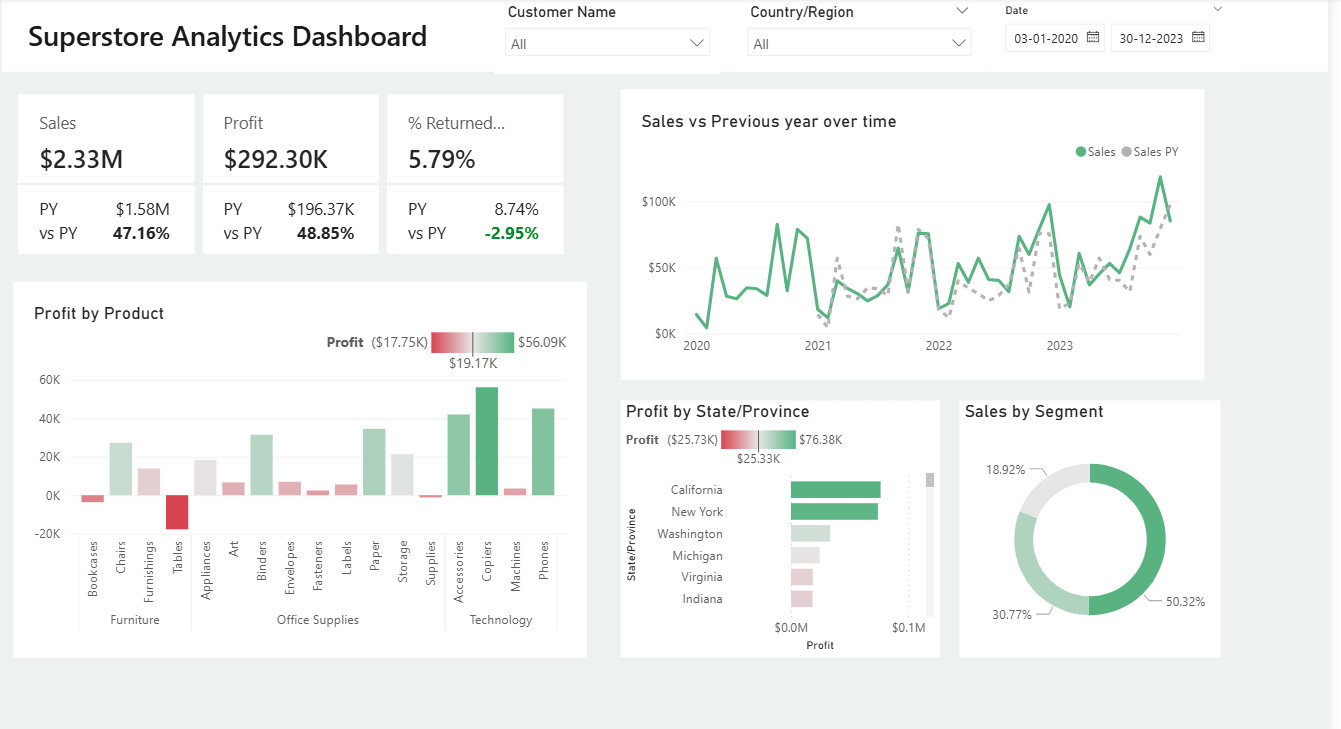

The dashboard page shown, as its layout file describes it:
{"tool":"powerbi","page":{"name":"Page 1","canvas":[1280,720],"ordinal":0},"visuals":[{"type":"cardVisual","fields":{"Data":["Key Measures.Sales","Key Measures.Profit","Key Measures.% Returned Orders"]},"box":[11.1,87.8,537.8,164.4],"z":0},{"type":"shape","box":[0,0,1280,71.2],"z":1},{"type":"lineChart","title":"Sales vs Previous year over time","fields":{"Y":["Key Measures.Sales","Key Measures.Sales PY"],"Category":["Date Table.Start of month"]},"box":[596.7,87.8,563.3,281.1],"z":2},{"type":"columnChart","title":"Profit by Product","fields":{"Category":["Orders.Category","Orders.Sub-Category"],"Y":["Sum(Orders.Profit)"]},"box":[11.1,273.3,553.3,363.3],"z":3},{"type":"donutChart","fields":{"Category":["Orders.Segment"],"Y":["Key Measures.Sales"]},"box":[924.4,388.9,252.2,247.8],"z":4},{"type":"clusteredBarChart","fields":{"Category":["Orders.State/Province"],"Y":["Key Measures.Profit"]},"box":[596.7,388.9,307.8,247.8],"z":5},{"type":"slicer","fields":{"Values":["Orders.Customer Name"]},"box":[475.6,0,217.8,73.3],"z":6},{"type":"slicer","fields":{"Values":["Orders.Country/Region"]},"box":[708.9,0,236.7,71.1],"z":7},{"type":"slicer","fields":{"Values":["Date Table.Date"]},"box":[955.6,0,235.6,71.1],"z":8}]}

Visuals, with their boxes on the page's 1280x720 design canvas (x1, y1, x2, y2). These are canvas units, not pixel positions in the 1341x729 screenshot, which may show the page scaled, cropped or inside an application window:
cardVisual - Key Measures.Sales x Key Measures.Profit: 11,88,549,252
shape: 0,0,1280,71
"Sales vs Previous year over time" lineChart: 597,88,1160,369
"Profit by Product" columnChart: 11,273,564,637
donutChart - Orders.Segment x Key Measures.Sales: 924,389,1177,637
clusteredBarChart - Orders.State/Province x Key Measures.Profit: 597,389,904,637
slicer - Orders.Customer Name: 476,0,693,73
slicer - Orders.Country/Region: 709,0,946,71
slicer - Date Table.Date: 956,0,1191,71
